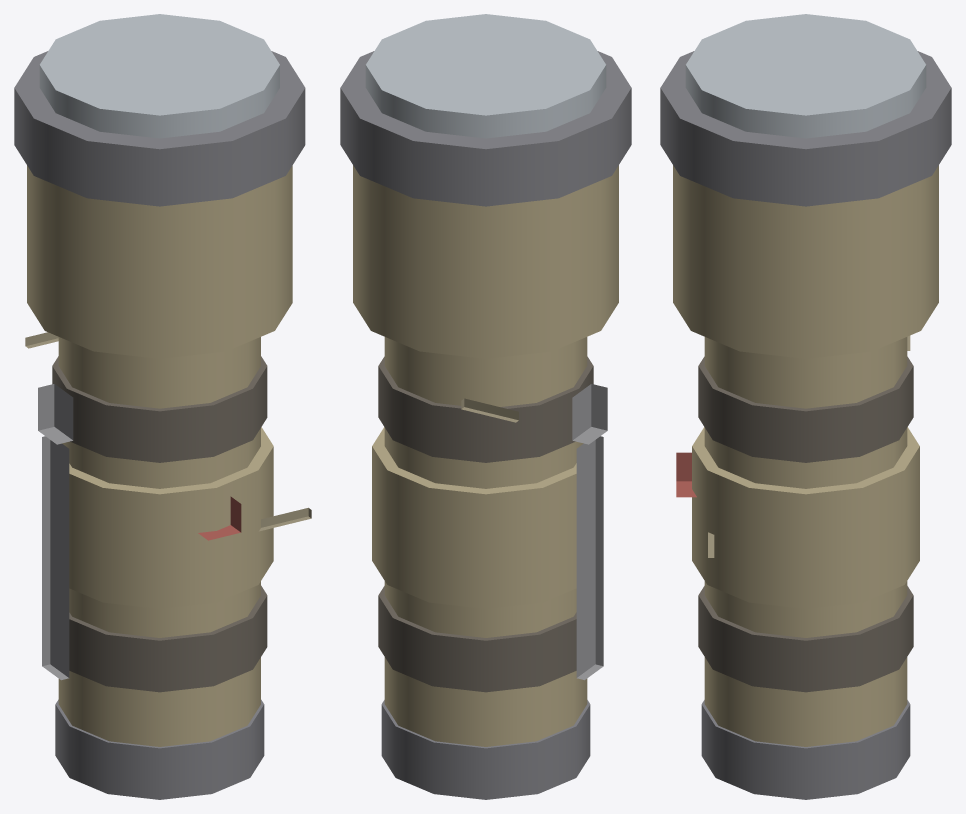
The model's file is flashlight.glb.
3 views of the same model, side by side, from view 1: azimuth 30°, elevation 25°; view 2: azimuth 150°, elevation 25°; view 3: azimuth 270°, elevation 25° (orthographic).
Size of the model in its own units: 0.092 by 0.241 by 0.092.
